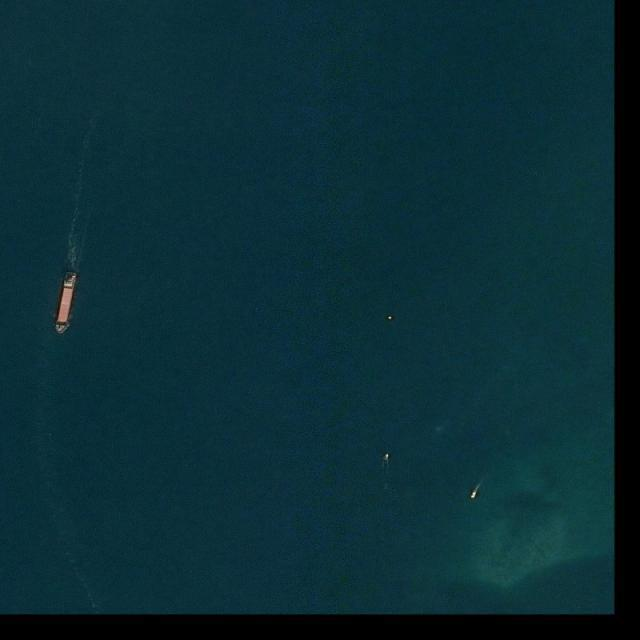ship: (53, 270, 78, 336), (470, 489, 478, 500), (384, 453, 390, 461)
